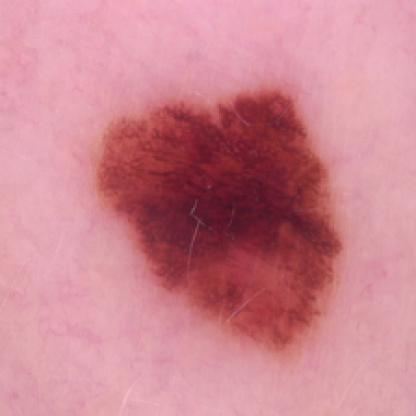benign: (87, 74, 386, 360)
